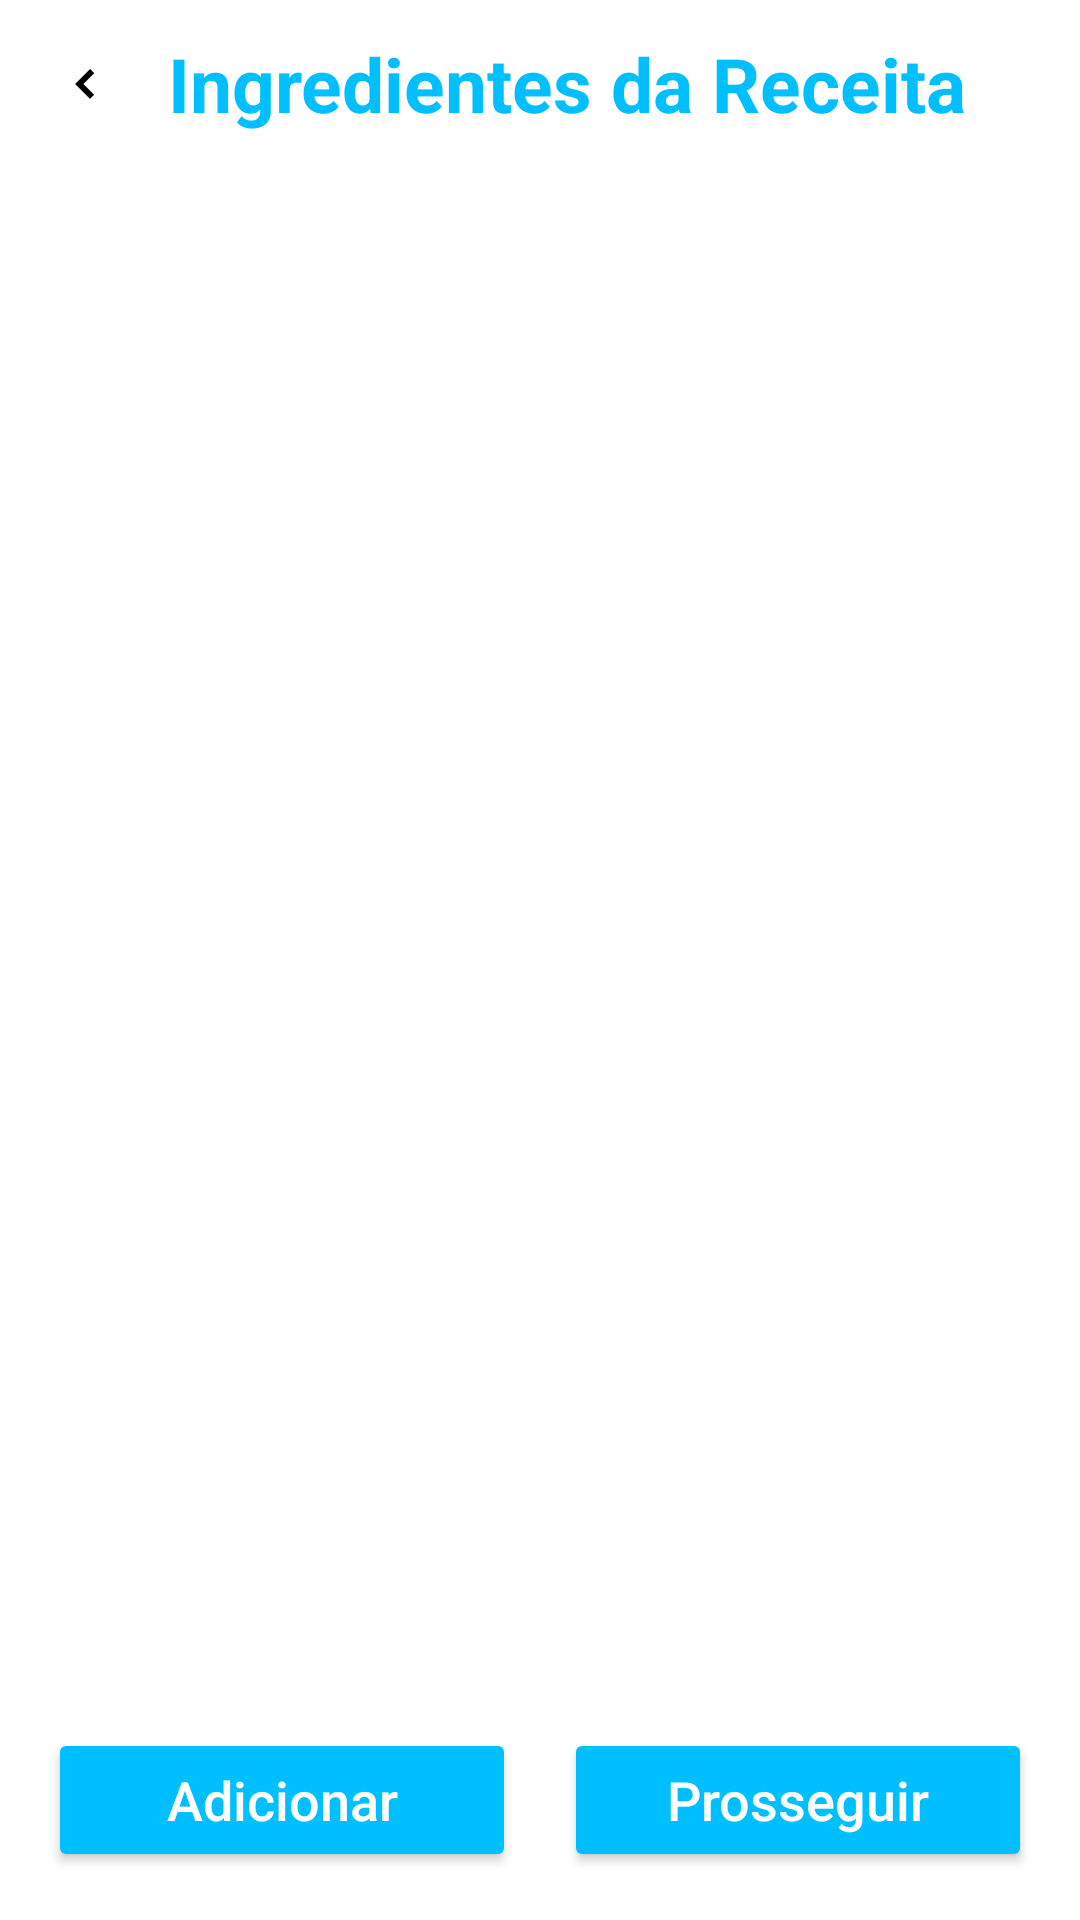

Where icons sit on this 1080×1920 app screen, as (x1, y1, x2, y2):
Voltar: (75, 69, 94, 99)
